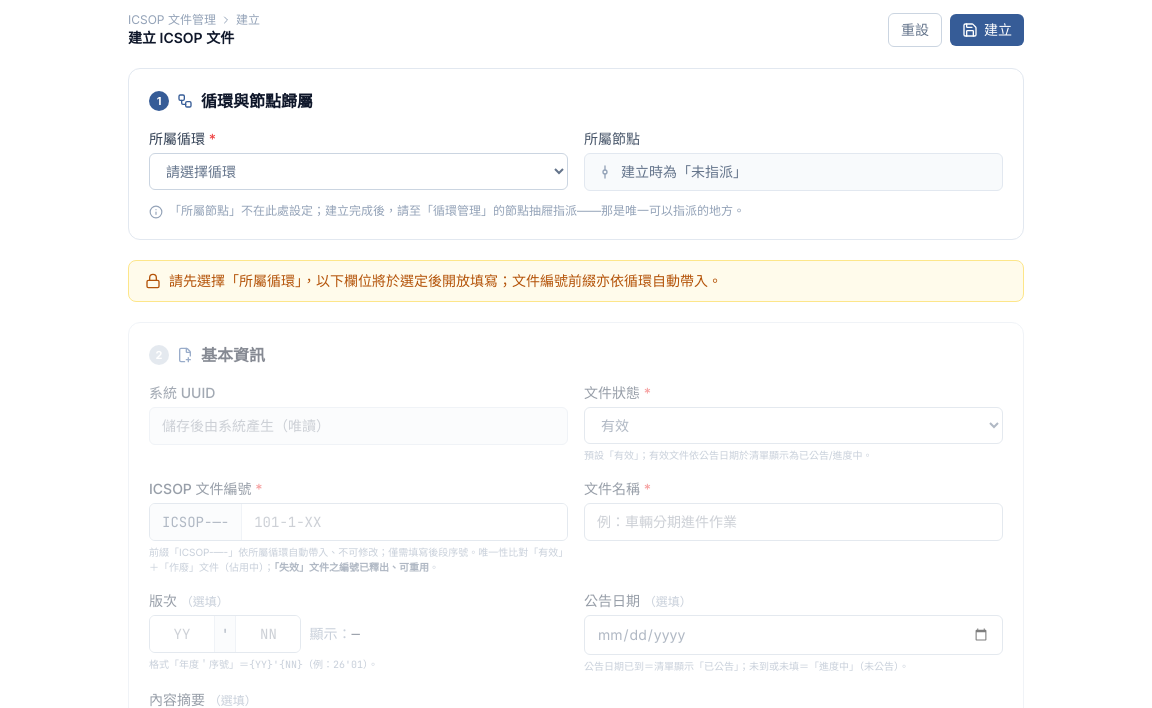
DocumentCreatePage — F010 AC-S1 未選子分類即送出被擋（AC-21） › #subErr 文案依 prototype 提示「請選擇具體子分類後再送出」
The width and height of the screenshot is (1152, 708).
Select "銷售及收款循環" in the dropdown named "所屬循環－循環名稱" at (358, 172), box top-left (149, 153), bottom-right (568, 190)
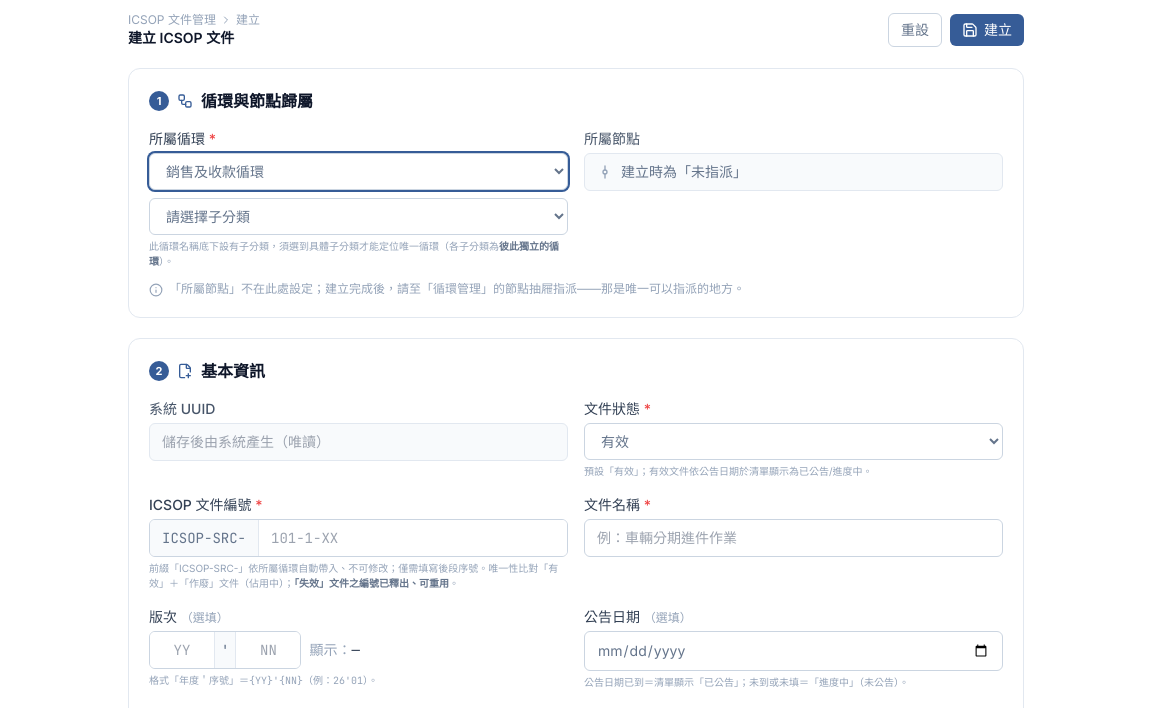
Now the dropdown named "所屬循環－子分類" is shown, box top-left (149, 198), bottom-right (568, 235)
Type "101-1-01" into the field labelled "ICSOP 文件編號 *" at (413, 538), box top-left (259, 520), bottom-right (567, 556)
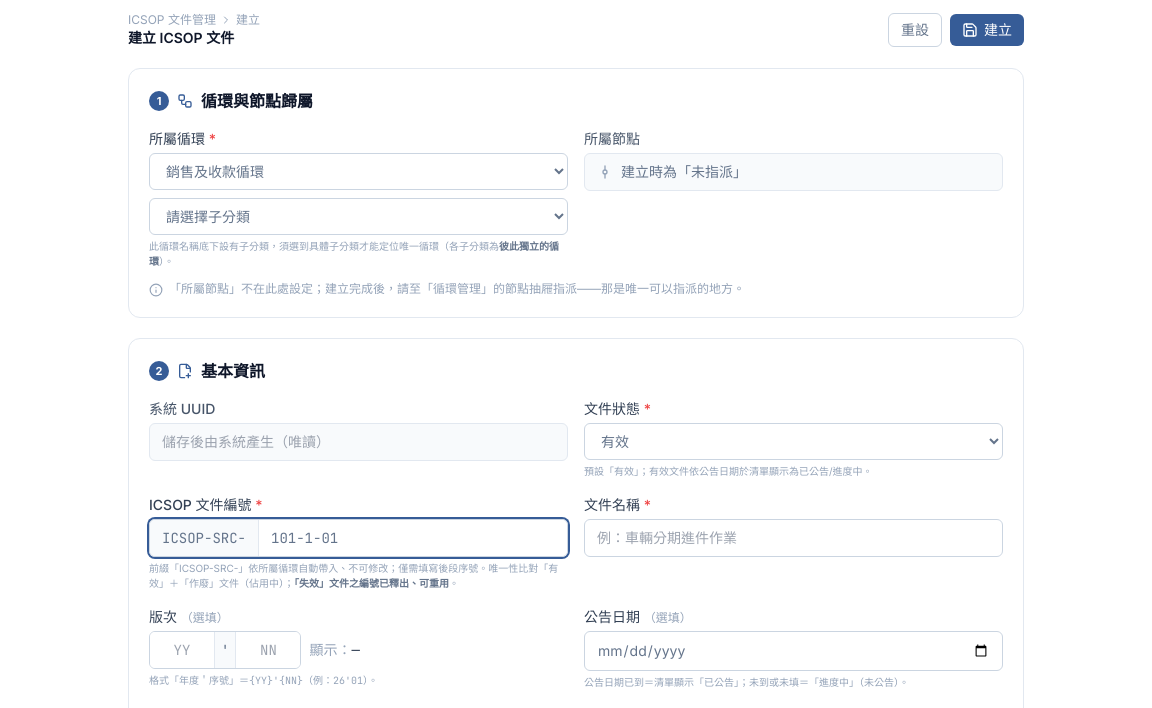
Type "名" into the field labelled "文件名稱 *" at (794, 538), box top-left (584, 519), bottom-right (1003, 557)
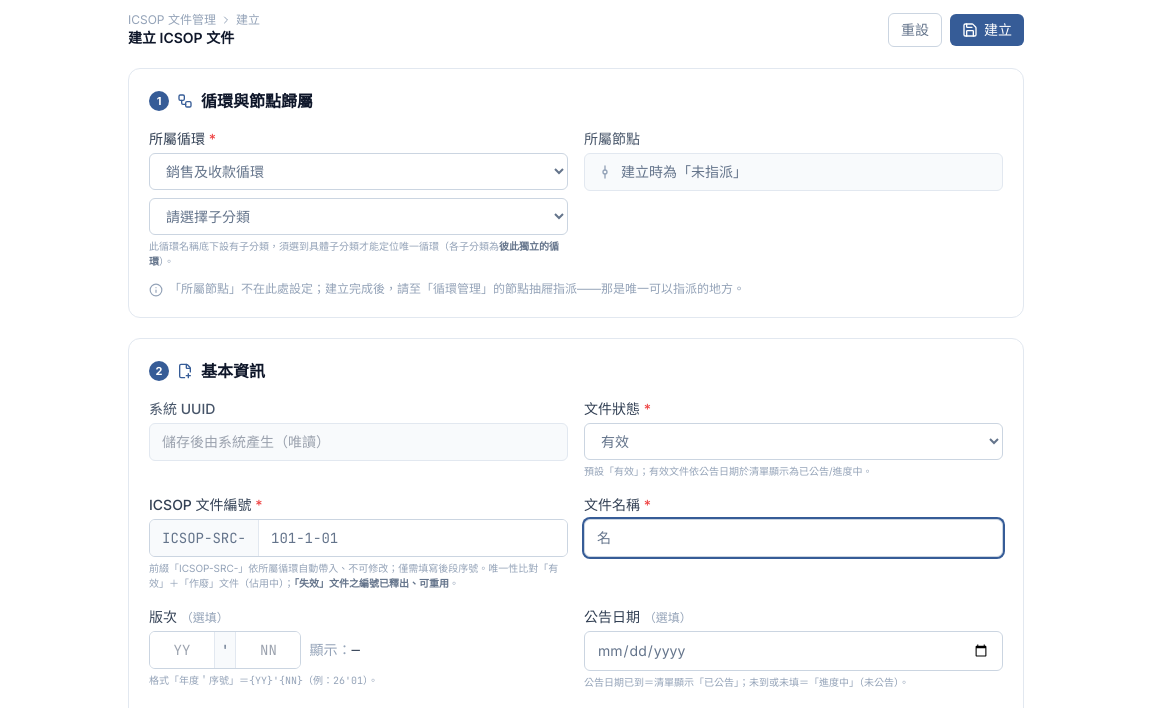
Click the button "建立" at (987, 30), box top-left (950, 14), bottom-right (1024, 46)
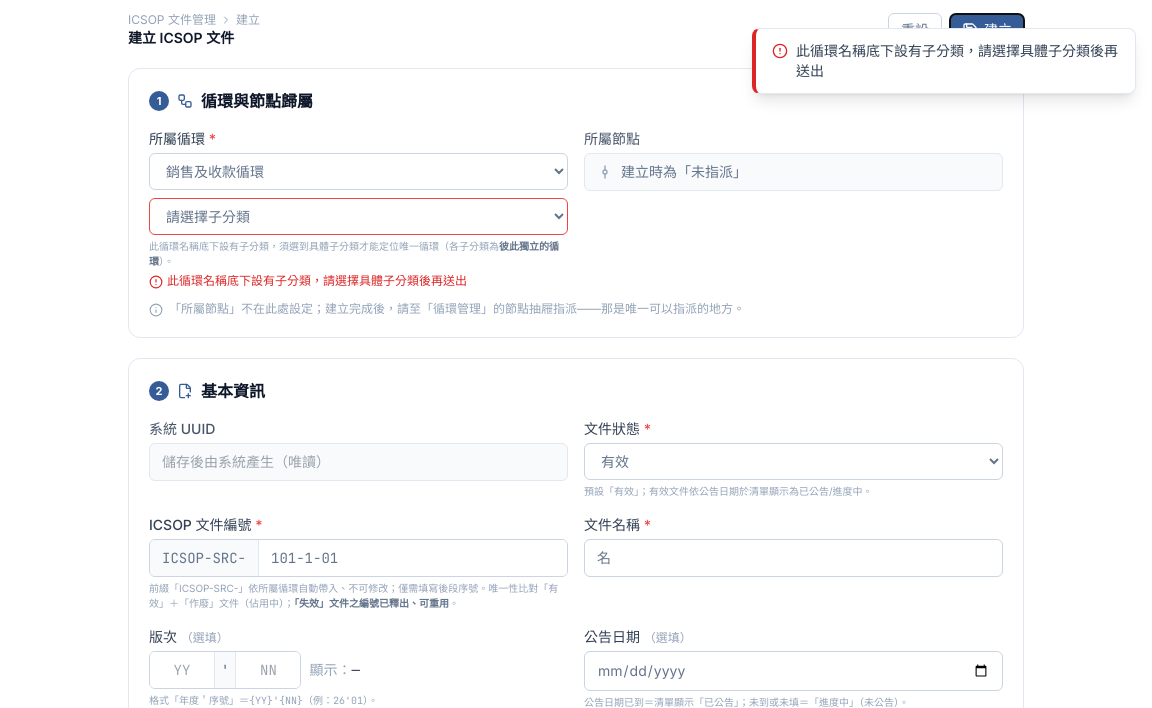
Now the element with id "subErr" is shown, box top-left (149, 273), bottom-right (467, 289)
Now the element with id "subErr" shows "請選擇具體子分類後再送出", box top-left (167, 273), bottom-right (467, 288)
